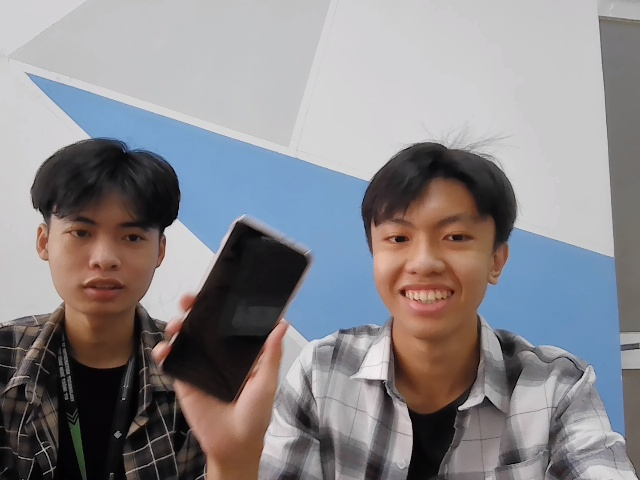human: (359, 131, 530, 324), (38, 134, 178, 313)
phone: (159, 211, 320, 411)
